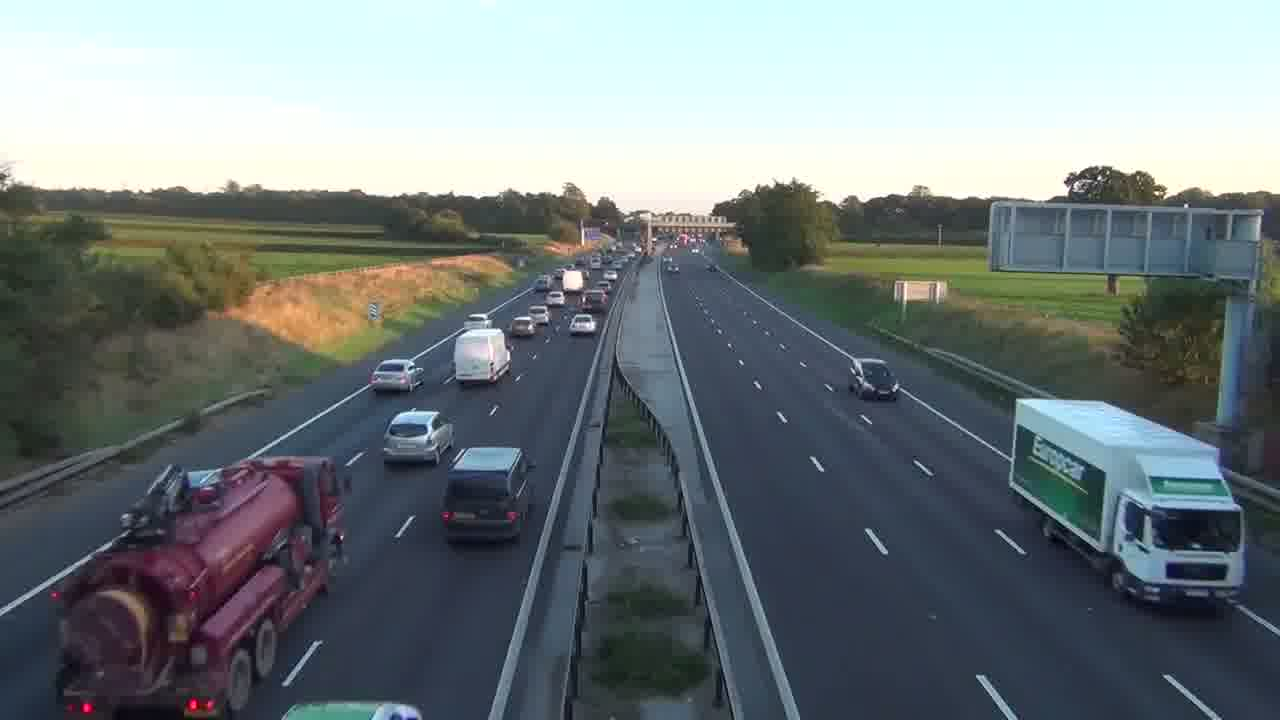car: (440, 445, 533, 544), (381, 408, 455, 465), (847, 356, 900, 402), (368, 357, 424, 393), (569, 312, 597, 336)
truck: (50, 453, 350, 717), (1009, 397, 1248, 614)
